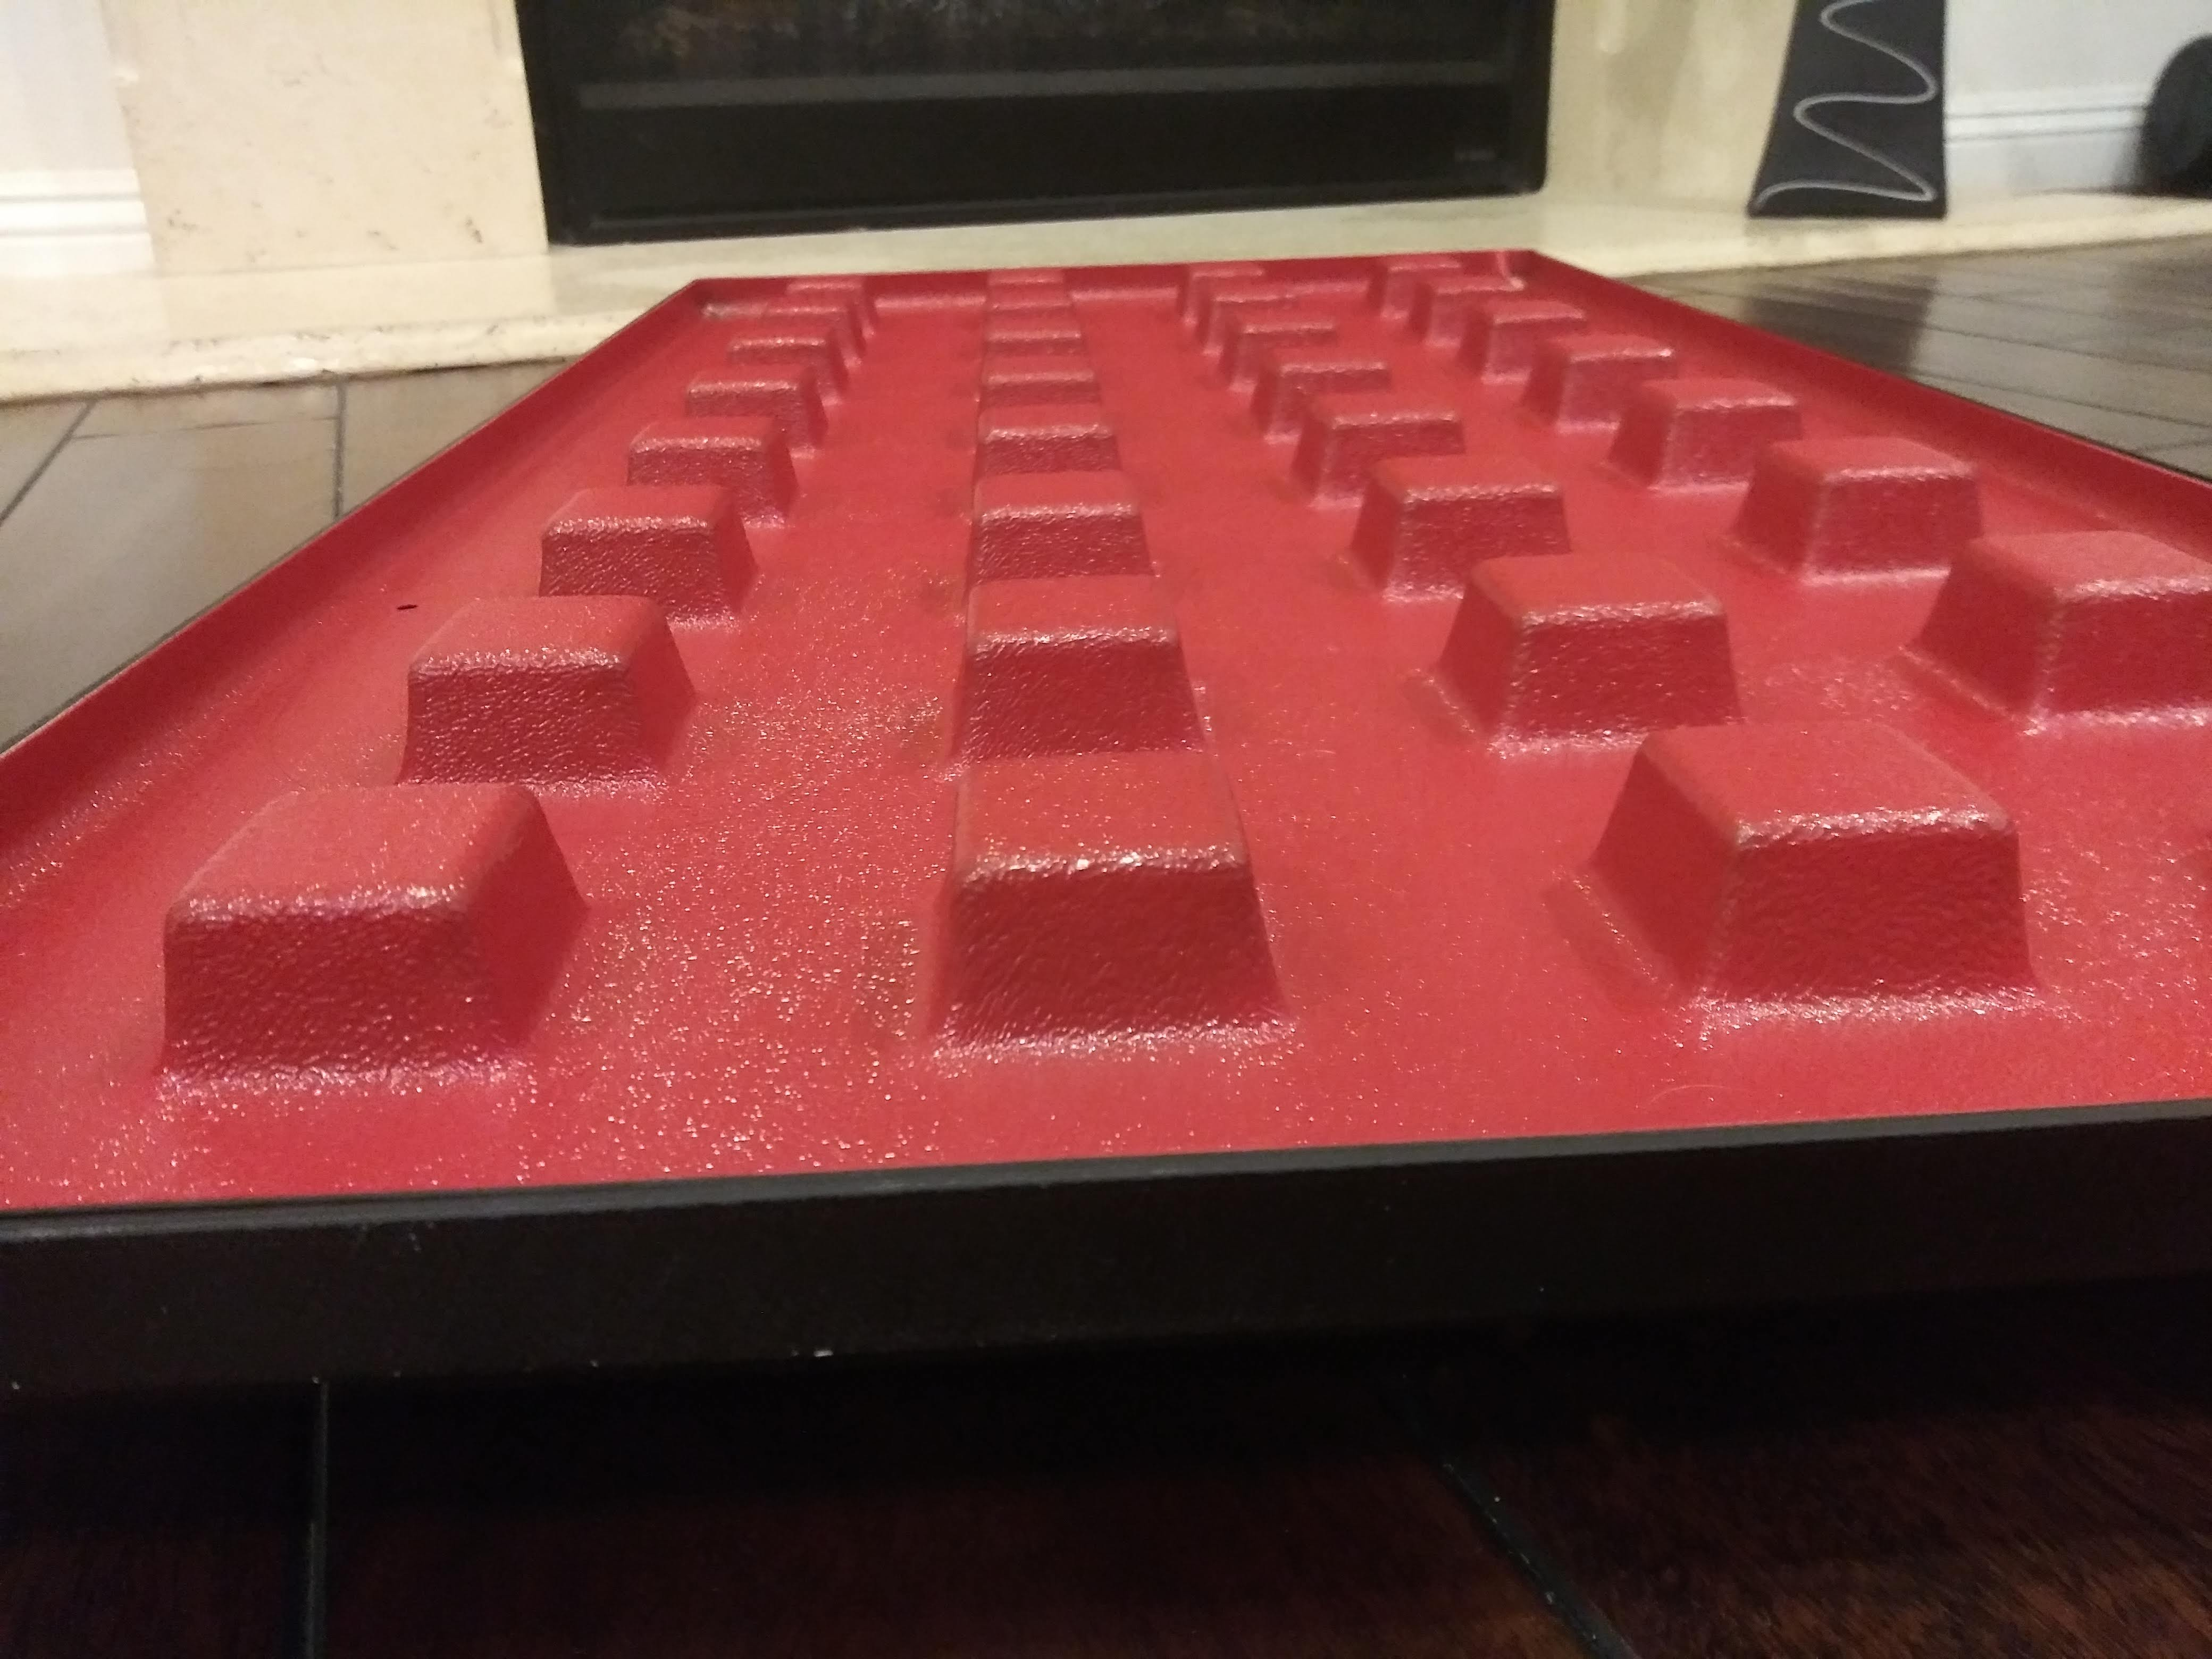red foundation: (14, 246, 2196, 1262)
